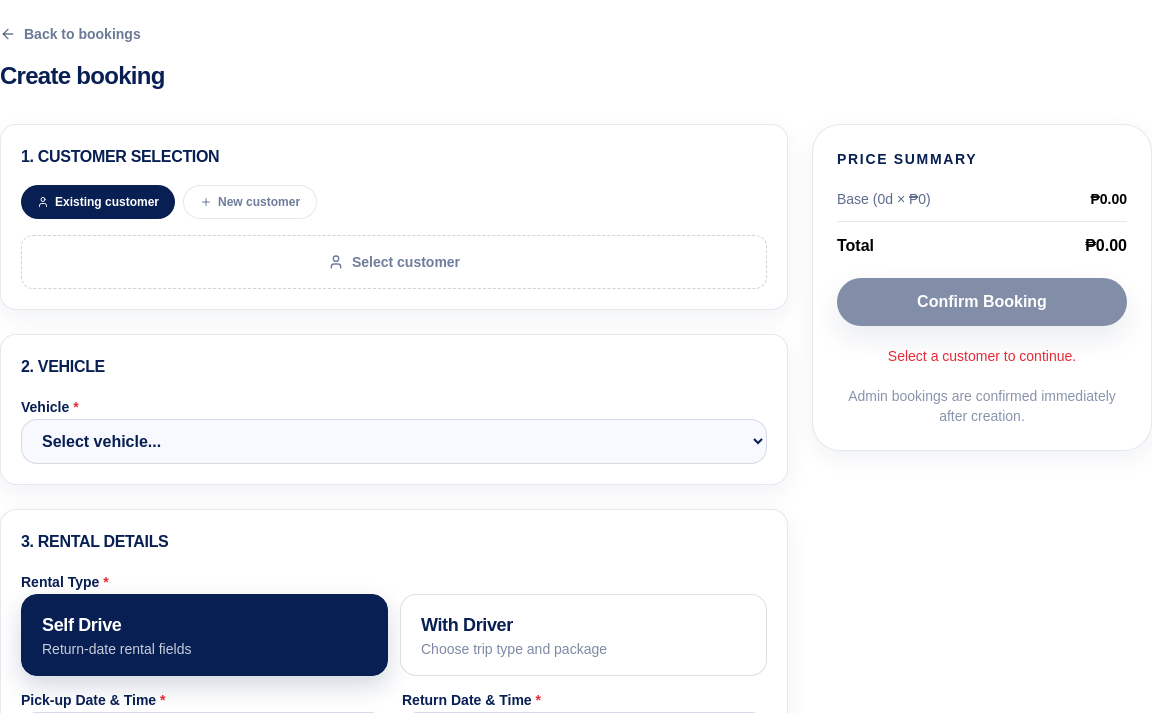
Test: AdminBookingsCreate › opens customer search dialog and shows results
Click the button "Select customer" at coordinates (394, 262), box left=21, top=235, right=767, bottom=289
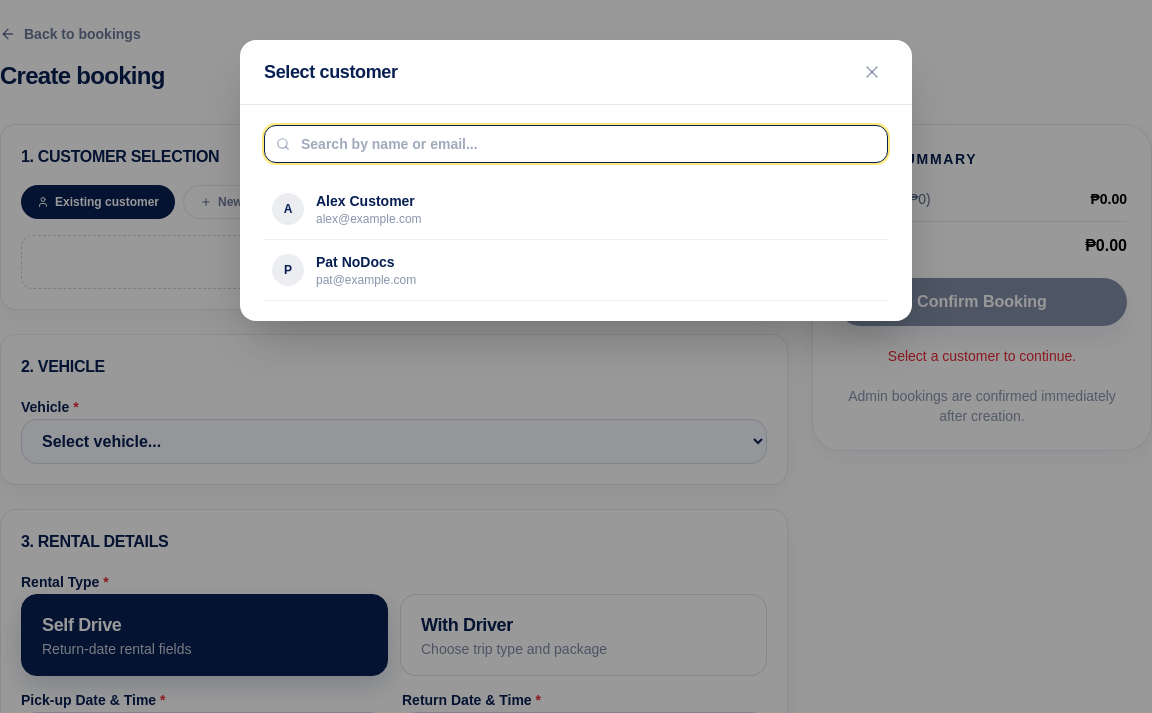
expect the button "A Alex Customer alex@example.com" is shown: met, box left=264, top=179, right=888, bottom=240
